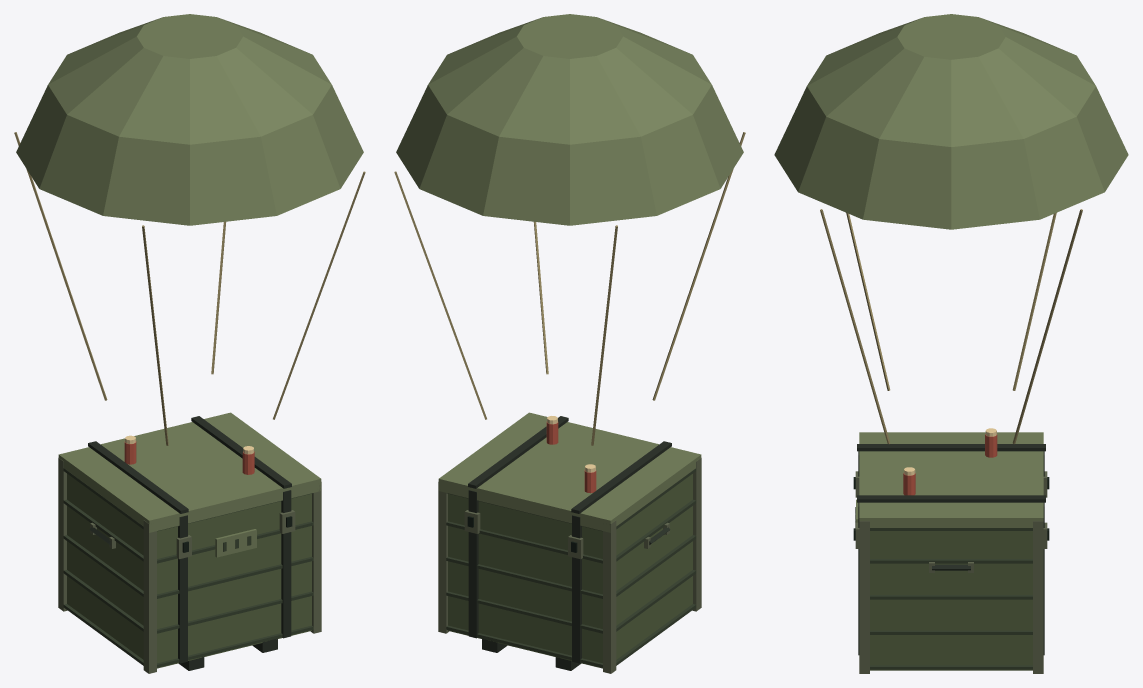
File: airdrop.glb
3 renders of one model, left to right at view 1: azimuth 30°, elevation 25°; view 2: azimuth 150°, elevation 25°; view 3: azimuth 270°, elevation 25°, orthographic.
Parts seen in each view (by area): view 1: Canopy, Body; view 2: Canopy, Body; view 3: Canopy, Body.
Boxes of the visible parts, box(x1,y1,x2,y2) form: Canopy: box(14, 14, 365, 445); Body: box(58, 412, 321, 673); Canopy: box(394, 14, 745, 445); Body: box(438, 412, 701, 673); Canopy: box(774, 14, 1128, 443); Body: box(853, 428, 1049, 673).
Size of the model in its own units: 4.9 by 9.2 by 4.9.
Materials: 1 (1 with a texture image).
